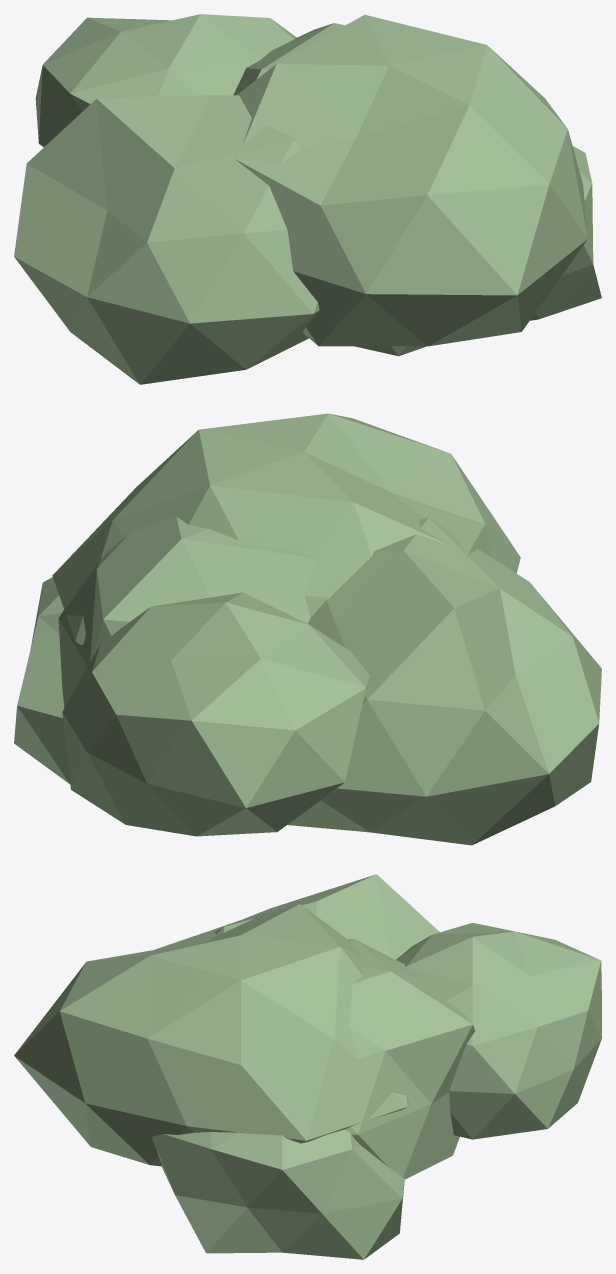
The model's file is isl_shrub_b.fbx.
3 views of the same model, one above another, from view 1: azimuth 30°, elevation 25°; view 2: azimuth 150°, elevation 25°; view 3: azimuth 270°, elevation 25° (orthographic). The views are drawn at different scales.
Parts seen in each view (by area): view 1: isl_shrub_b; view 2: isl_shrub_b; view 3: isl_shrub_b.
Part boxes in pixels (x1,y1,x2,y2): isl_shrub_b: (14, 14, 601, 384); isl_shrub_b: (14, 413, 601, 845); isl_shrub_b: (14, 874, 601, 1259).
Size of the model in its own units: 0.7542 by 0.384 by 0.8326.
